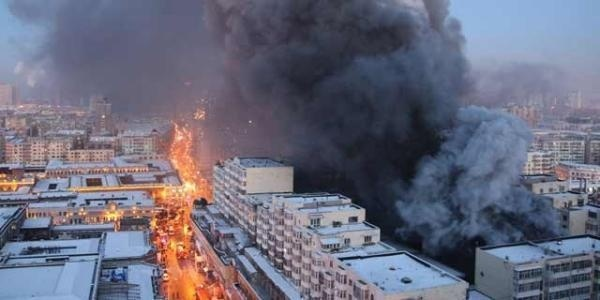fire: (0, 94, 234, 300)
